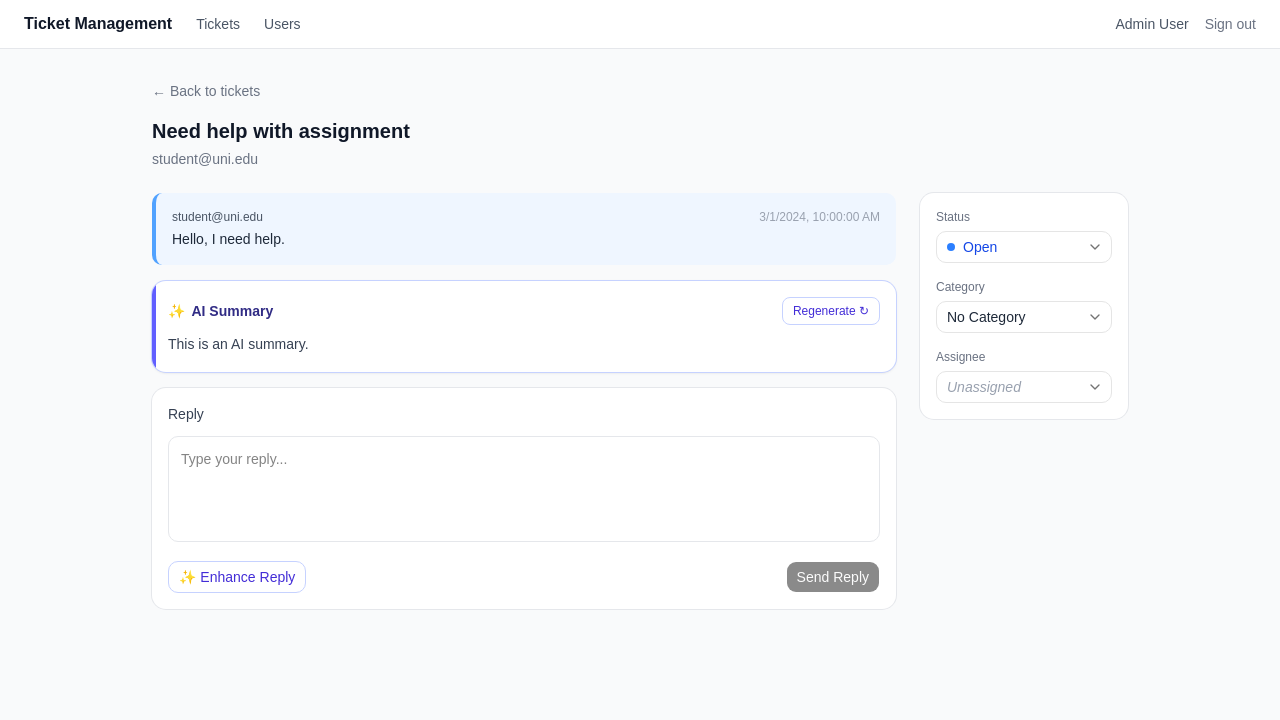
Test: TicketDetailPage › reply form › send button enables when text is typed
Type "This is my reply" into the text box labelled "Type your reply...".
click(524, 489); type("This is my reply")  # box [168,436,880,542]
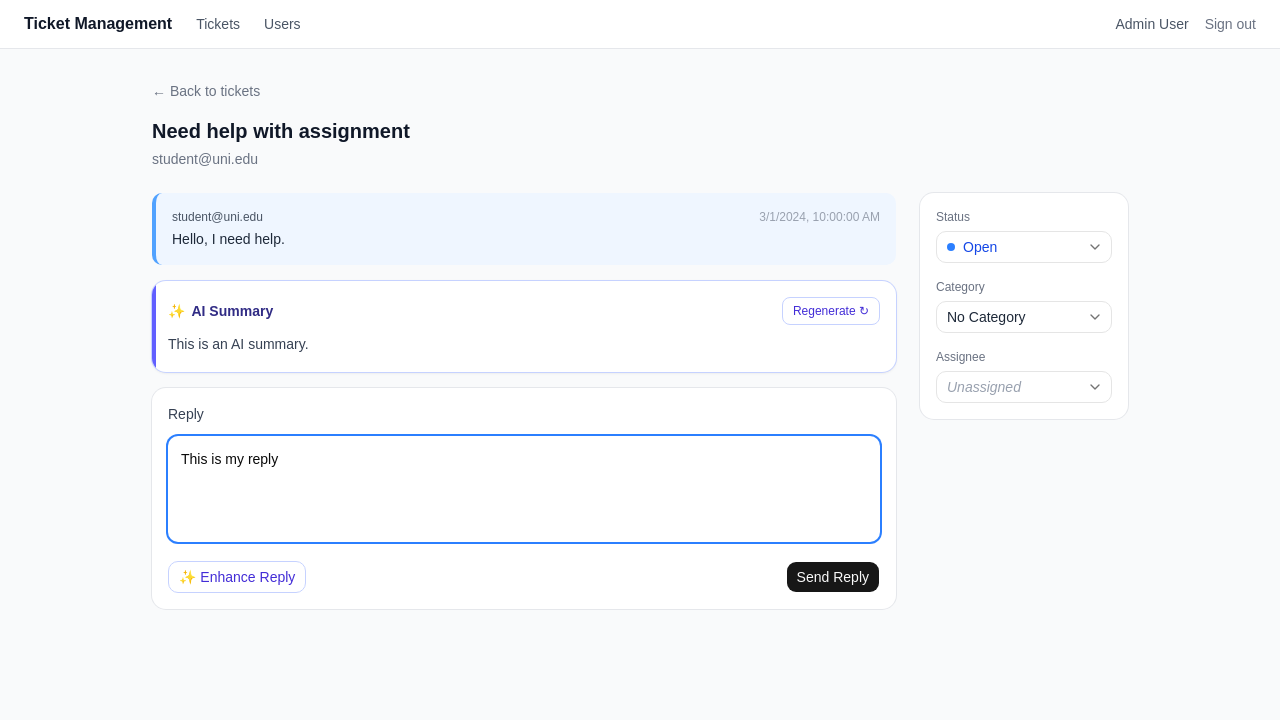
Check: the button "Send Reply" is enabled, box [786,561,880,593]
